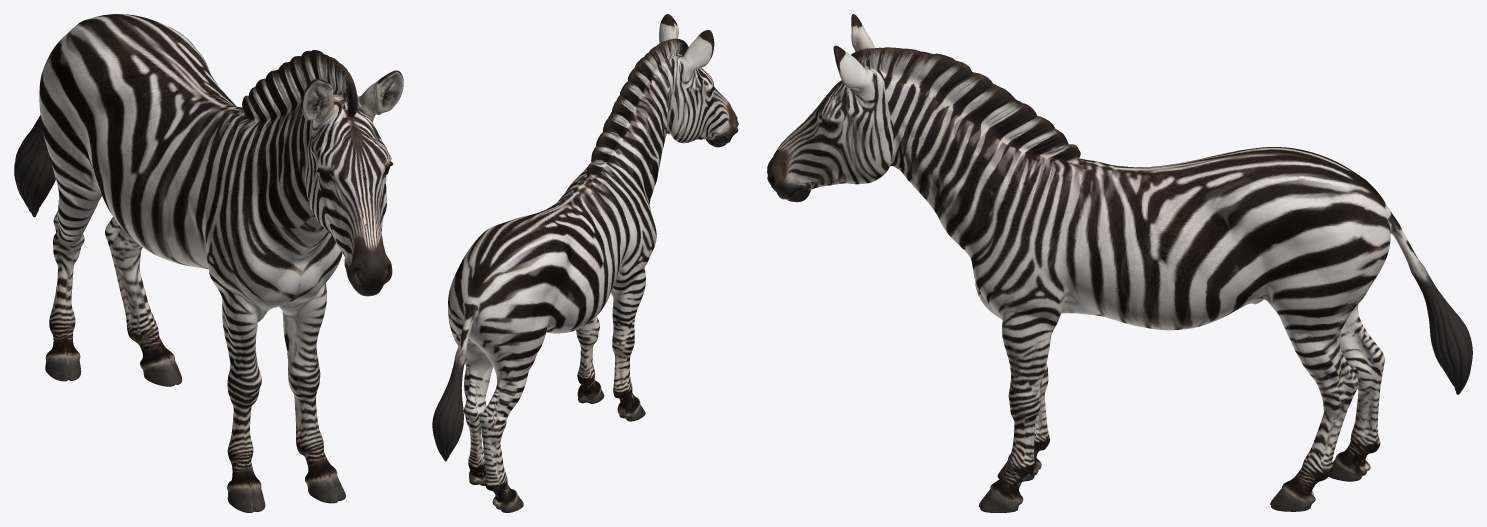
The model's file is wild-zebra.glb.
The picture shows the model from 3 angles, left to right: view 1: azimuth 30°, elevation 25°; view 2: azimuth 150°, elevation 25°; view 3: azimuth 270°, elevation 25°; orthographic projection. The views are drawn at different scales.
Parts seen in each view (by area): view 1: zebra; view 2: zebra; view 3: zebra.
Part boxes in pixels (box(x1,y1,x2,y2)): zebra: box(14, 14, 403, 512); zebra: box(432, 14, 738, 512); zebra: box(767, 14, 1472, 512).
Size of the model in its own units: 0.4849 by 1.7 by 2.4.
1 material, 1 textured.
